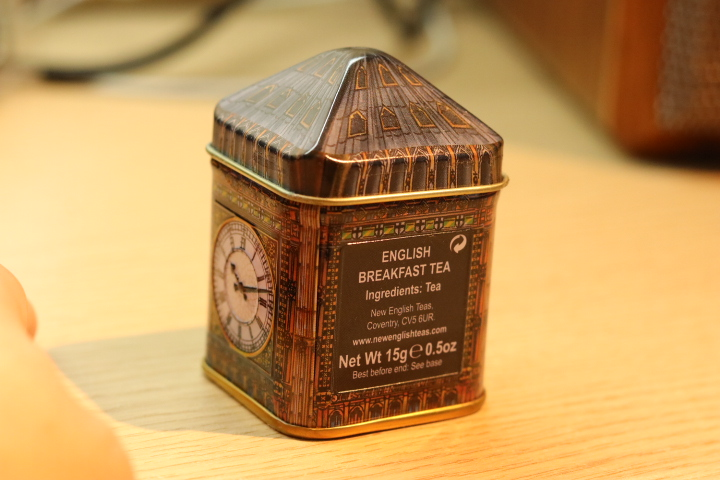Big Ben: (190, 39, 524, 449)
